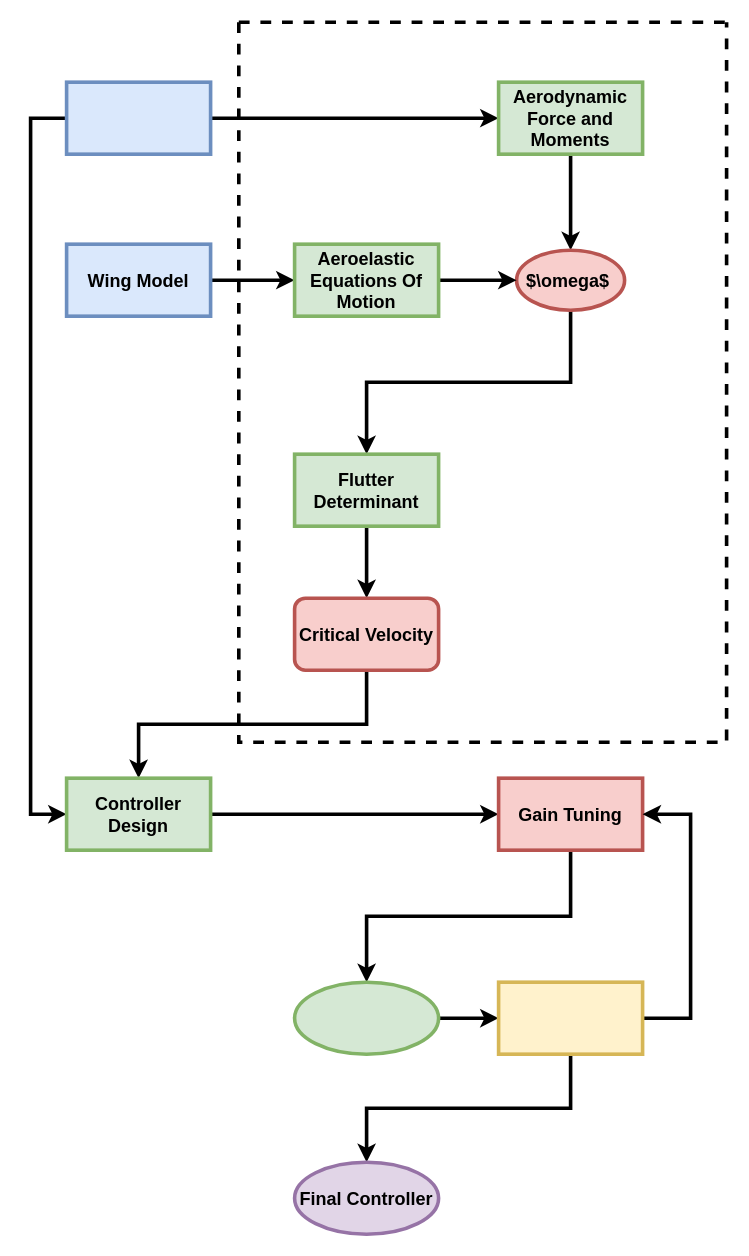
Some shapes in this 749 by 1256 pixel diagram are drawn without their labels. The centre of each missing label's shape, as x and y in pixels:
Simulation 1: the point at 482,381
Trajectory: the point at 138,117
Tuned Controller: the point at 366,1017
Verify: the point at 570,1017
